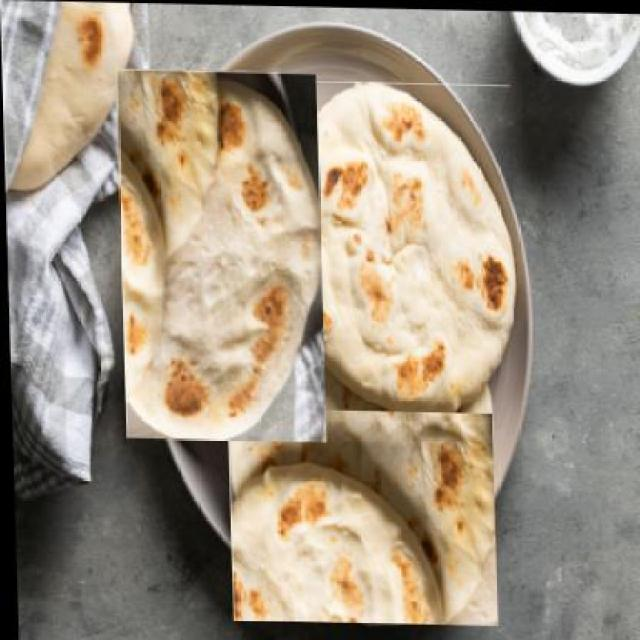chapati: (221, 250, 496, 625), (274, 78, 518, 414), (116, 69, 327, 442), (0, 0, 138, 197)
